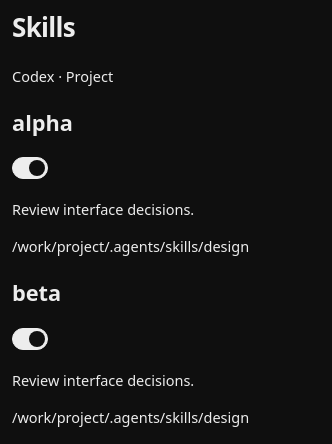
Test: Agent Skills settings › keeps a switch locked until its own toggle settles
Later steps or results of the test are not shown.
Click the switch named "Disable alpha" at (30, 168), box [12,158,48,180]
Click the switch named "Disable beta" at (30, 339), box [12,328,48,350]
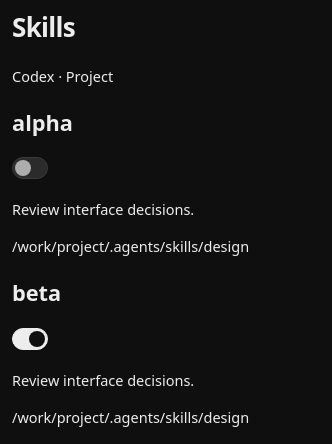
Expected: the switch named "Disable alpha" is enabled, [12,158,48,180]
